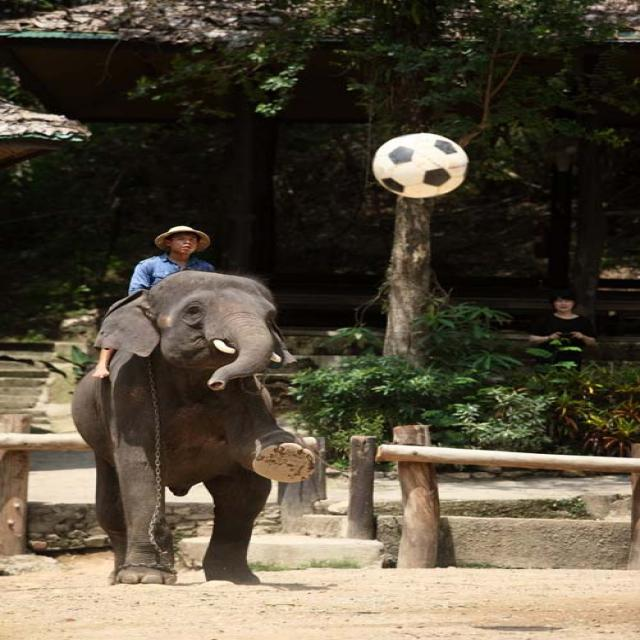Elephant: (45, 264, 353, 613)
